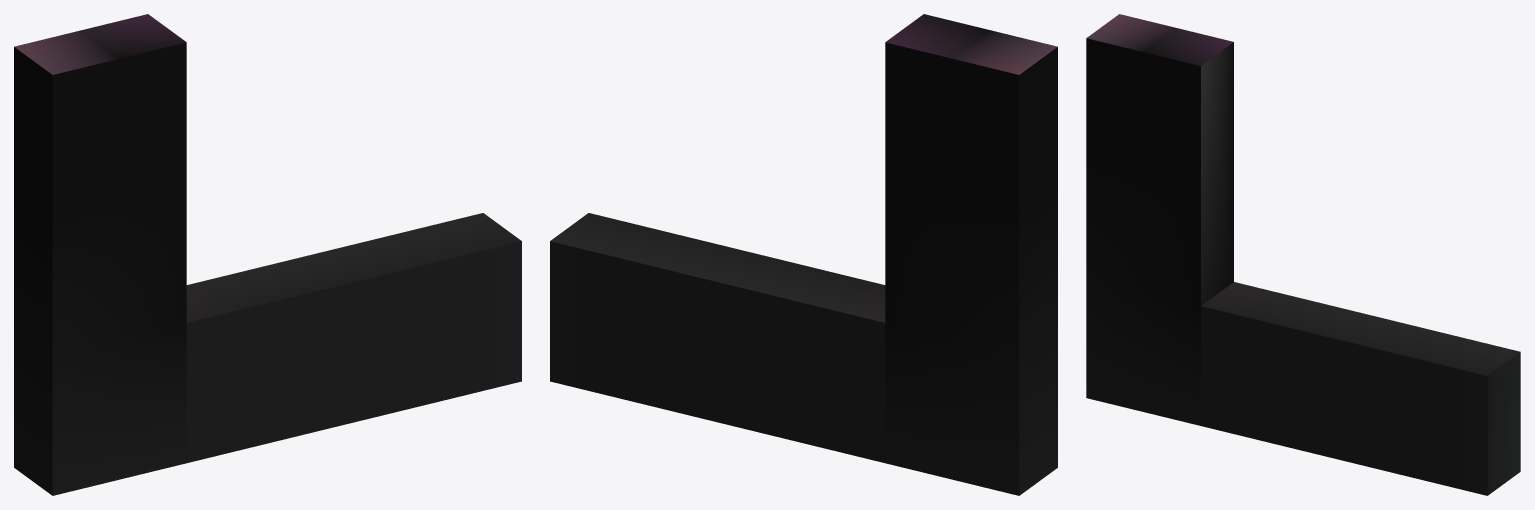
File: Cable_E_00.fbx
3 views of the same model, side by side, from view 1: azimuth 30°, elevation 25°; view 2: azimuth 150°, elevation 25°; view 3: azimuth 330°, elevation 25° (orthographic). The views are drawn at different scales.
Visible parts, largest first — view 1: Cable_E_00; view 2: Cable_E_00; view 3: Cable_E_00.
Part boxes in pixels (x1,y1,x2,y2): Cable_E_00: (14, 14, 521, 495); Cable_E_00: (550, 14, 1057, 495); Cable_E_00: (1086, 14, 1520, 495).
Bounding box in the file's own units: 35 × 30 × 5.
